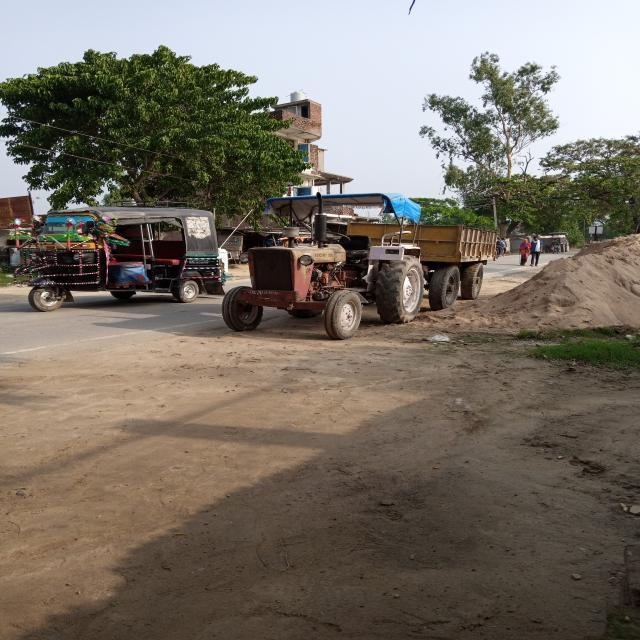auto_front: (0, 199, 228, 316)
tractor_front: (218, 189, 508, 342)
